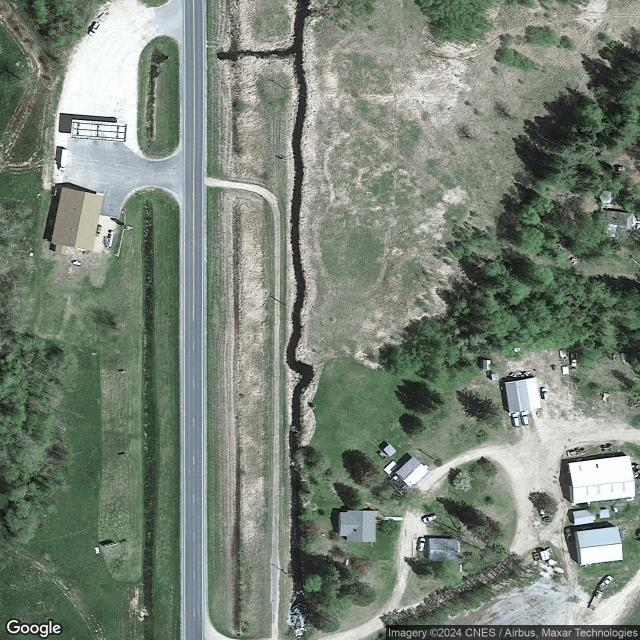Propane: (71, 259, 82, 266), (343, 559, 350, 567), (459, 563, 463, 573)
